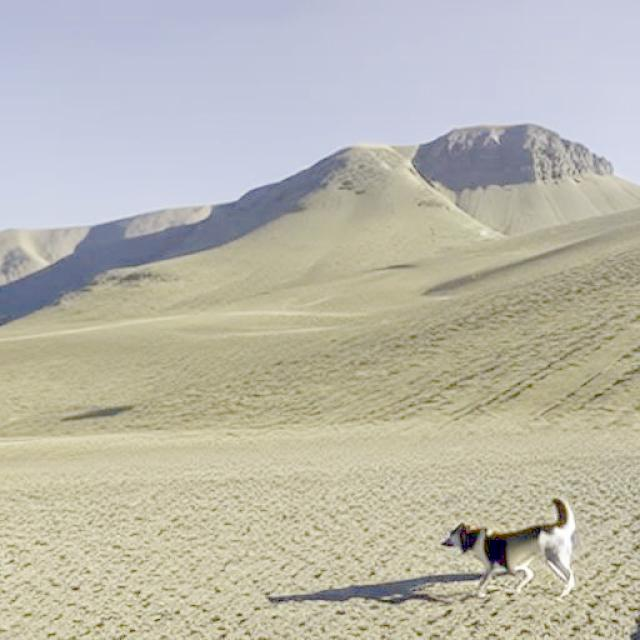Dog: (440, 497, 576, 598)
